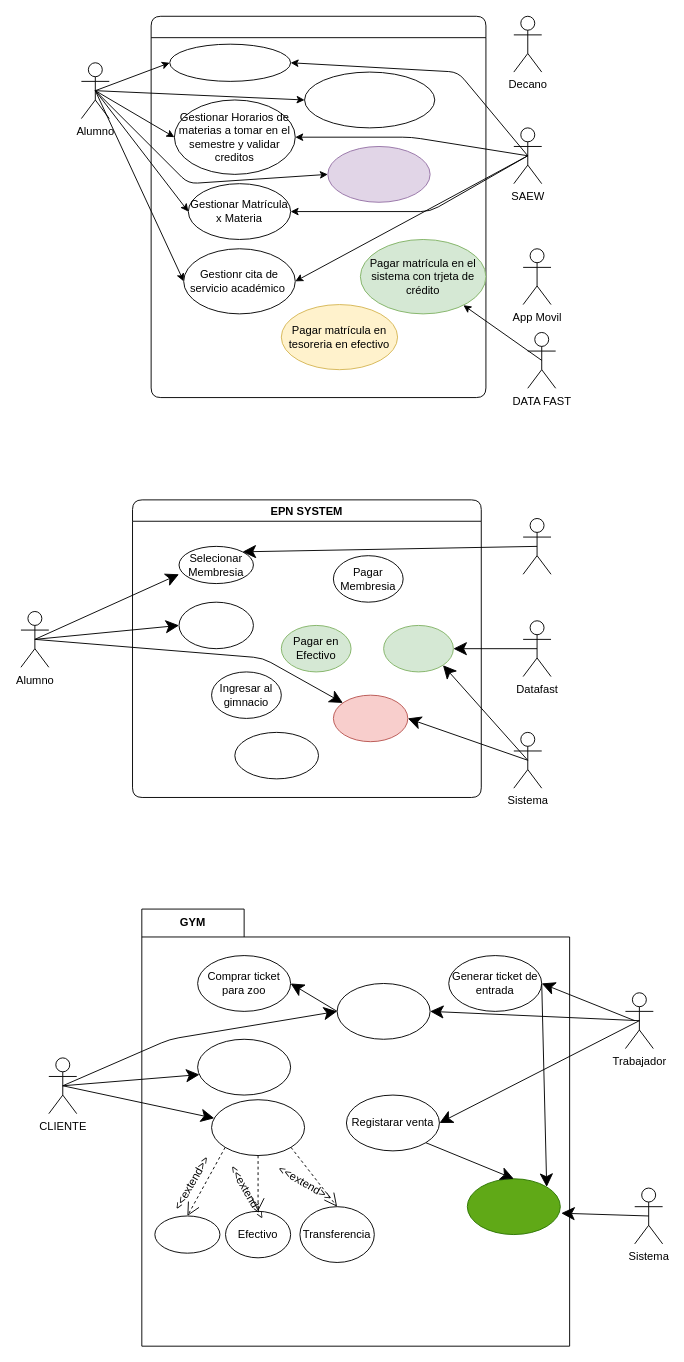
The diagram is 684 pixels wide and 1362 high, and some of its shapes have lost their labels. Each missing label, with the box of its shape:
Acceder a los casilleros: (234, 731, 319, 779)
Autenticación: (332, 694, 408, 742)
Consultar precio del ticket del zoo: (197, 1038, 291, 1095)
MATRICULA EPN: (150, 15, 486, 398)
Pagar: (211, 1099, 305, 1156)
Pagar con tarjeta: (383, 624, 453, 672)
Recepcionista: (522, 518, 551, 574)
Registrar Membresia: (178, 601, 253, 649)
Selecionar tipoTicket: (336, 983, 430, 1039)
Sistema Generador de Ticket: (466, 1178, 560, 1235)
Tarjeta: (154, 1215, 220, 1253)
Tramitar Certificado académico: (169, 43, 291, 81)
Visualizar comprobrante d la matrícula o pagar la matrícula: (327, 146, 430, 202)
Visualizar información académica del alumno: (304, 71, 435, 128)
